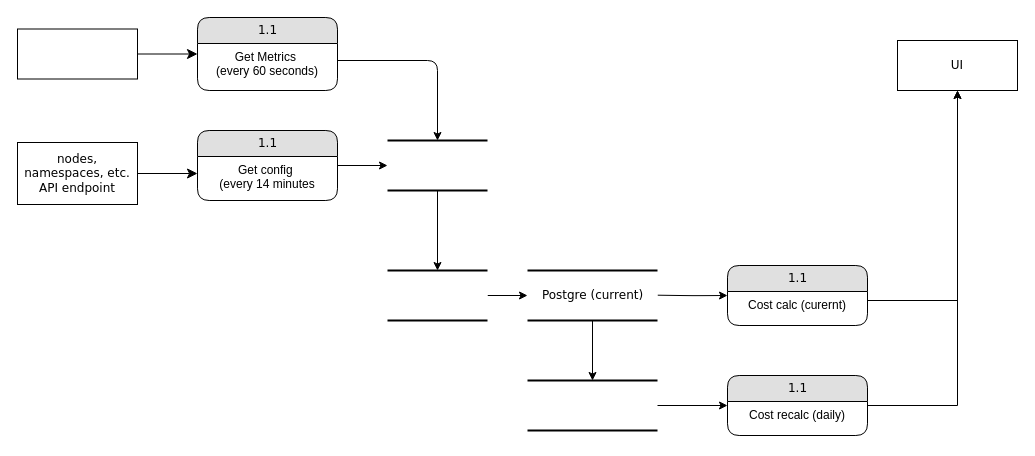
Image size: 1035x456. Some labels were removed from this diagram. Here are the shapes that lost their labels. From the top down, the box of each, then its label:
(16, 28, 138, 79): cAdvisor API endpoint
(386, 139, 488, 191): Agent
(386, 269, 488, 321): Master
(526, 379, 658, 431): Postgre (daily)
